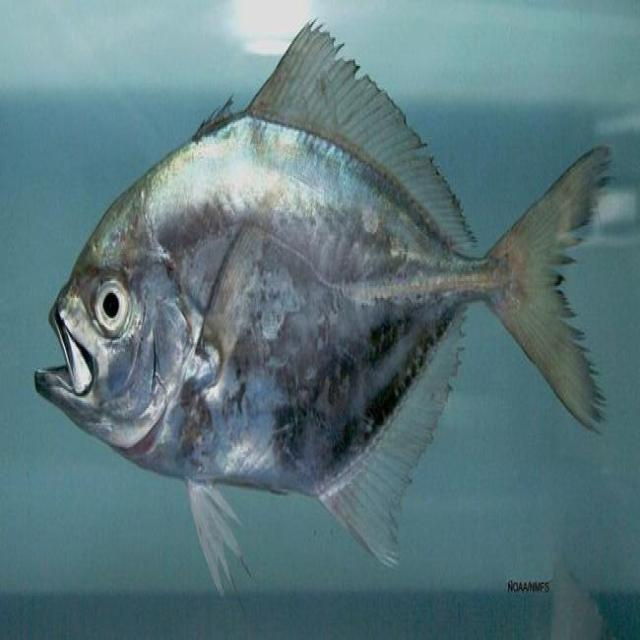ikan: (34, 15, 614, 601)
